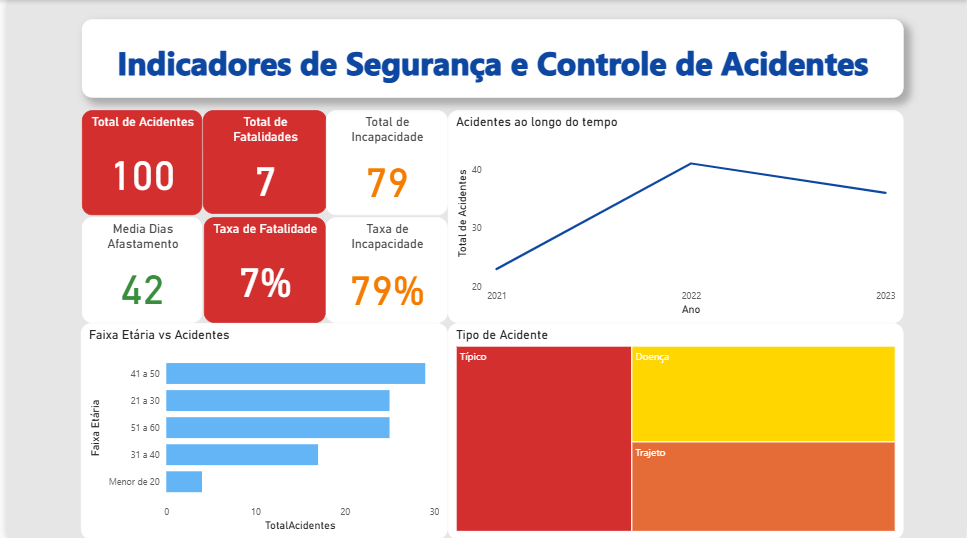

What the dashboard file says about the page in this screenshot:
{"tool":"powerbi","page":{"name":"Página 1","canvas":[1280,720],"ordinal":0},"visuals":[{"type":"card","title":"Total de Acidentes","fields":{"Values":["cat_simulado_100func.TotalAcidentes"]},"box":[100.4,147.5,161.2,139.9],"z":0},{"type":"card","title":"Total de Fatalidades","fields":{"Values":["cat_simulado_100func.TotalFatalidades"]},"box":[261.5,147.5,165.7,138.4],"z":1000},{"type":"card","title":"Total de Incapacidade","fields":{"Values":["cat_simulado_100func.TotalIncapacidades"]},"box":[425.7,147.5,162.7,139.9],"z":2000},{"type":"card","title":"Taxa de Fatalidade","fields":{"Values":["cat_simulado_100func.TaxaFatalidade"]},"box":[263,290.4,162.7,141.4],"z":3000},{"type":"card","title":"Taxa de Incapacidade","fields":{"Values":["cat_simulado_100func.TaxaIncapacidade"]},"box":[425.8,290,162.9,141.4],"z":4000},{"type":"card","title":"Media Dias Afastamento","fields":{"Values":["cat_simulado_100func.MediaDiasAfastamento"]},"box":[100.4,290.4,161.2,141.4],"z":5000},{"type":"lineChart","title":"Acidentes ao longo do tempo","fields":{"Category":["Date.Date.Variation.Hierarquia de datas.Ano","Date.Date.Variation.Hierarquia de datas.Trimestre","Date.Date.Variation.Hierarquia de datas.Mês","Date.Date.Variation.Hierarquia de datas.Dia"],"Y":["cat_simulado_100func.TotalAcidentes"]},"box":[588.4,147.5,608.2,284.3],"z":6000},{"type":"clusteredBarChart","title":"Faixa Etária vs Acidentes","fields":{"Category":["cat_simulado_100func.FaixaEtaria"],"Y":["cat_simulado_100func.TotalAcidentes"]},"box":[98.8,431.8,489.6,288.9],"z":7000},{"type":"treemap","title":"Tipo de Acidente","fields":{"Group":["cat_simulado_100func.tipo_acidente"],"Values":["cat_simulado_100func.TotalAcidentes"]},"box":[588.4,431.8,608.2,288.9],"z":8000},{"type":"textbox","box":[100,25.7,1097.3,104.3],"z":9000}]}

Visuals, with their boxes in screenshot pixels (x1, y1, x2, y2), scaled from the page's 1280x720 canvas onto the 967x538 screenshot:
"Total de Acidentes" card: <region>76, 110, 198, 215</region>
"Total de Fatalidades" card: <region>198, 110, 323, 214</region>
"Total de Incapacidade" card: <region>322, 110, 445, 215</region>
"Taxa de Fatalidade" card: <region>199, 217, 322, 323</region>
"Taxa de Incapacidade" card: <region>322, 217, 445, 322</region>
"Media Dias Afastamento" card: <region>76, 217, 198, 323</region>
"Acidentes ao longo do tempo" lineChart: <region>445, 110, 904, 323</region>
"Faixa Etária vs Acidentes" clusteredBarChart: <region>75, 323, 445, 537</region>
"Tipo de Acidente" treemap: <region>445, 323, 904, 537</region>
textbox: <region>76, 19, 905, 97</region>
